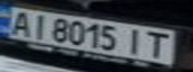0: (66, 18, 87, 46)
1: (81, 20, 103, 48)
5: (100, 22, 121, 52)
8: (48, 16, 69, 44)
A: (3, 8, 36, 37)
I: (121, 26, 148, 56), (24, 11, 51, 39)
T: (142, 29, 178, 58)
